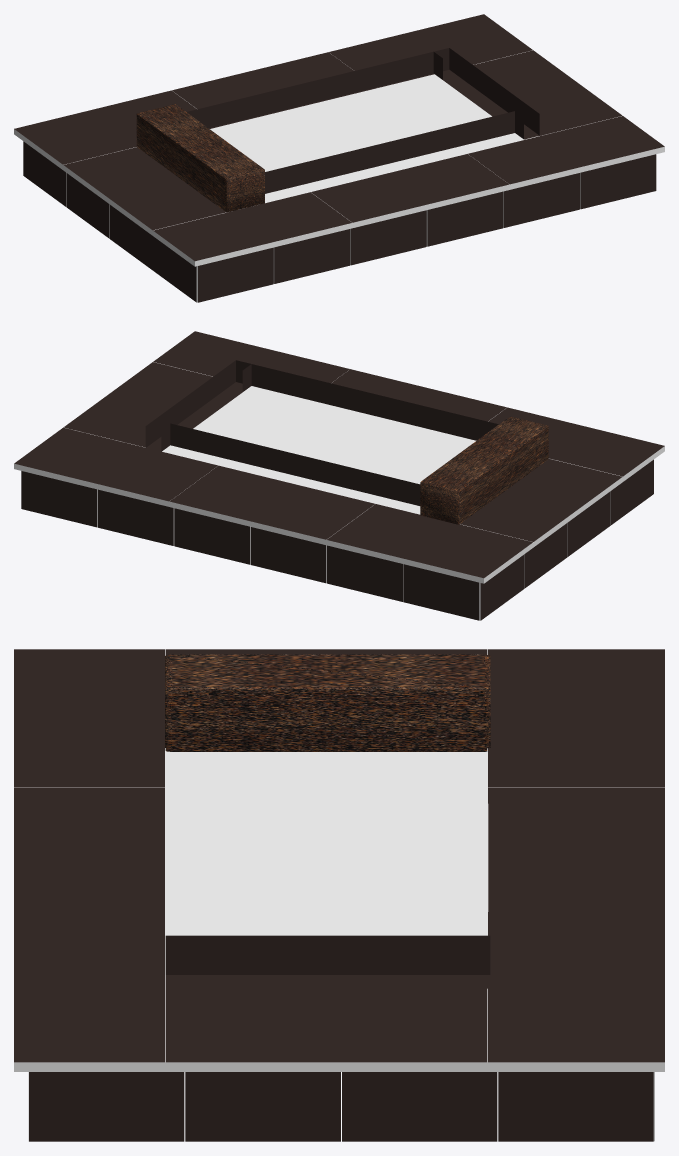
File: Цветник Димовский [granite_100_u].glb
The picture shows the model from 3 angles, top to bottom: view 1: azimuth 30°, elevation 25°; view 2: azimuth 150°, elevation 25°; view 3: azimuth 270°, elevation 25°; orthographic projection. The views are drawn at different scales.
Parts seen in each view (by area): view 1: Куб.022; view 2: Куб.022; view 3: Куб.022.
Boxes of the visible parts, x1,y1,x2,y2 form: Куб.022: [14, 14, 664, 302]; Куб.022: [14, 331, 664, 620]; Куб.022: [14, 649, 664, 1141].
Bounding box in the file's own units: 1.8 × 0.2913 × 1.2.
Materials: 2 (1 with a texture image).
